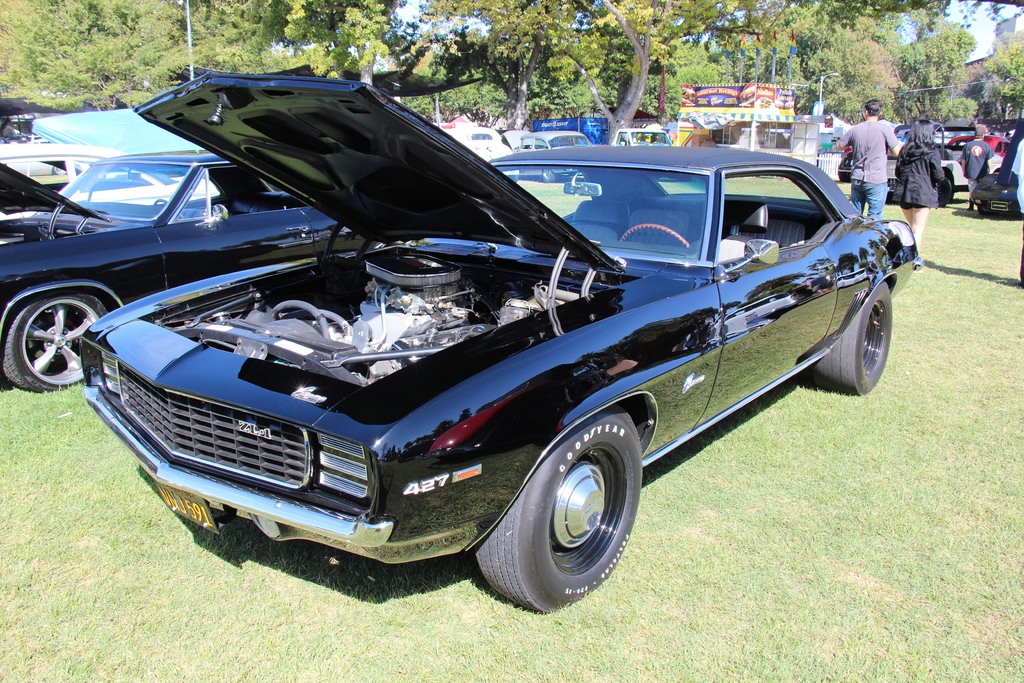cars: (0, 98, 671, 390), (839, 120, 1023, 215)
